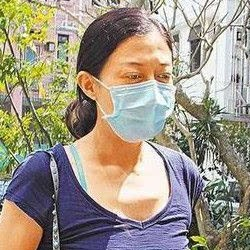mask: (92, 74, 177, 144)
